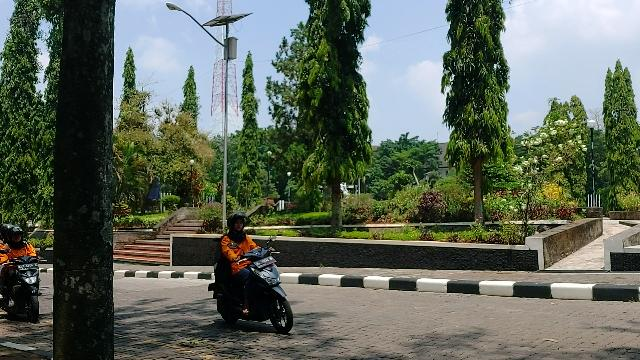helm: (228, 214, 248, 233), (8, 228, 24, 245)
motor: (214, 249, 294, 335), (1, 257, 47, 323)
